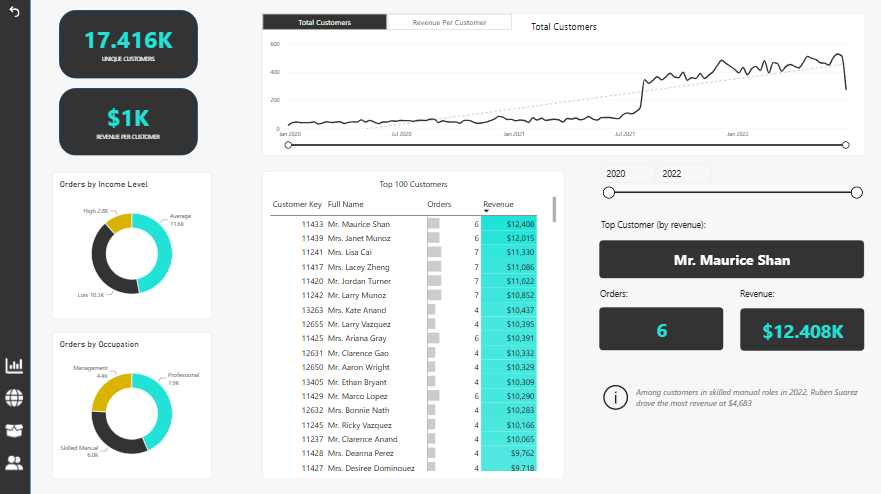

Layout of this report page (visuals, bound fields, positions):
{"tool":"powerbi","page":{"name":"Customer Detail","canvas":[1920,1080],"ordinal":3},"visuals":[{"type":"shape","box":[0,0,70,1080],"z":0},{"type":"group","id":"g1","title":"Group 1","box":[1297.5,482.5,573.4,128.3],"z":0,"group":"g6"},{"type":"cardVisual","fields":{"Data":["Min(Customer Lookup.Full Name)"]},"box":[1297.5,527.7,573.4,83.1],"z":0,"group":"g1"},{"type":"cardVisual","fields":{"Data":["Measure Table.Total Orders"]},"box":[1297.6,672.6,269.8,94.1],"z":0,"group":"g3"},{"type":"cardVisual","fields":{"Data":["Measure Table.Total Revenue"]},"box":[1602.7,673.6,269.8,93.6],"z":0,"group":"g5"},{"type":"actionButton","box":[0,766.8,69.1,64.8],"z":0,"group":"g7"},{"type":"shape","box":[132.5,29.1,300,147.9],"z":500,"group":"g2"},{"type":"shape","box":[132.5,198.8,300,145.8],"z":500,"group":"g4"},{"type":"cardVisual","fields":{"Data":["Measure Table.Total Customers"]},"box":[102.5,12.5,359,177.5],"z":1000,"group":"g2"},{"type":"group","id":"g2","title":"Group 1","box":[102.5,12.5,360,177.5],"z":1000},{"type":"cardVisual","fields":{"Data":["Measure Table.Average Revenue Per Customer"]},"box":[102.5,182.5,359,175],"z":1000,"group":"g4"},{"type":"textbox","box":[1301.8,482.5,434.5,42.7],"z":1000,"group":"g1"},{"type":"textbox","box":[1602.9,631.2,197.4,32.8],"z":1000,"group":"g5"},{"type":"group","id":"g3","title":"Group 1","box":[1297.6,632,269.8,134.7],"z":1000,"group":"g6"},{"type":"textbox","box":[1299.9,632,197.4,32.8],"z":1000,"group":"g3"},{"type":"actionButton","box":[0,836.6,69.1,64.8],"z":1000,"group":"g7"},{"type":"lineChart","fields":{"Category":["Calendar Lookup.Date Hierarchy.Start of Year","Calendar Lookup.Date Hierarchy.Start of Month","Calendar Lookup.Date Hierarchy.Start of Week","Calendar Lookup.Date Hierarchy.Date"],"Y":["Measure Table.Total Customers"]},"box":[570,37.5,1302.5,307.5],"z":1500},{"type":"group","id":"g4","title":"Group 1","box":[102.5,182.5,360,175],"z":2000},{"type":"group","id":"g5","title":"Group 1","box":[1602.7,631.2,269.8,136.1],"z":2000,"group":"g6"},{"type":"actionButton","box":[0,906.5,69.1,64.8],"z":2000,"group":"g7"},{"type":"actionButton","box":[0,976.3,69.1,64.8],"z":3000,"group":"g7"},{"type":"donutChart","title":"Orders by Income Level","fields":{"Category":["Customer Lookup.Income Level"],"Y":["Measure Table.Total Orders"]},"box":[117.5,380,345,317.5],"z":4000},{"type":"donutChart","title":"Orders by Occupation","fields":{"Category":["Customer Lookup.Occupation"],"Y":["Measure Table.Total Orders"]},"box":[117.5,725,345,317.5],"z":5000},{"type":"tableEx","title":"Top 100 Customers","fields":{"Values":["Customer Lookup.CustomerKey","Customer Lookup.Full Name","Measure Table.Total Orders","Measure Table.Total Revenue"]},"box":[570,377.5,652.5,665],"z":6000},{"type":"slicer","fields":{"Values":["Calendar Lookup.Year"]},"box":[1295,357.5,575,102.5],"z":7000},{"type":"group","id":"g6","title":"Group 2","box":[1297.5,482.5,575,285],"z":8000},{"type":"actionButton","box":[0,0,70,66.7],"z":9000},{"type":"actionButton","title":"Among customers in skilled manual roles in 2022, Ruben Suarez drove the most revenue at 4683","box":[1298,810,576,114],"z":10000},{"type":"group","id":"g7","title":"Navigation","box":[0,766.8,69.1,274.3],"z":11000},{"type":"slicer","fields":{"Values":["Customer Metric Selection.Customer Metric Selection"]},"box":[550,37.5,577.5,37.5],"z":11501}]}

Visuals, with their boxes on the page's 1920x1080 design canvas (x1, y1, x2, y2). These are canvas units, not pixel positions in the 881x494 screenshot, which may show the page scaled, cropped or inside an application window:
shape: select_region(0, 0, 70, 1080)
"Group 1" group: select_region(1298, 482, 1871, 611)
cardVisual - Min(Customer Lookup.Full Name): select_region(1298, 528, 1871, 611)
cardVisual - Measure Table.Total Orders: select_region(1298, 673, 1567, 767)
cardVisual - Measure Table.Total Revenue: select_region(1603, 674, 1872, 767)
actionButton: select_region(0, 767, 69, 832)
shape: select_region(132, 29, 432, 177)
shape: select_region(132, 199, 432, 345)
cardVisual - Measure Table.Total Customers: select_region(102, 12, 462, 190)
"Group 1" group: select_region(102, 12, 462, 190)
cardVisual - Measure Table.Average Revenue Per Customer: select_region(102, 182, 462, 358)
textbox: select_region(1302, 482, 1736, 525)
textbox: select_region(1603, 631, 1800, 664)
"Group 1" group: select_region(1298, 632, 1567, 767)
textbox: select_region(1300, 632, 1497, 665)
actionButton: select_region(0, 837, 69, 901)
lineChart - Calendar Lookup.Date Hierarchy.Start of Year x Calendar Lookup.Date Hierarchy.Start of Month: select_region(570, 38, 1872, 345)
"Group 1" group: select_region(102, 182, 462, 358)
"Group 1" group: select_region(1603, 631, 1872, 767)
actionButton: select_region(0, 906, 69, 971)
actionButton: select_region(0, 976, 69, 1041)
"Orders by Income Level" donutChart: select_region(118, 380, 462, 698)
"Orders by Occupation" donutChart: select_region(118, 725, 462, 1042)
"Top 100 Customers" tableEx: select_region(570, 378, 1222, 1042)
slicer - Calendar Lookup.Year: select_region(1295, 358, 1870, 460)
"Group 2" group: select_region(1298, 482, 1872, 768)
actionButton: select_region(0, 0, 70, 67)
"Among customers in skilled manual roles in 2022, Ruben Suarez drove the most revenue at 4683" actionButton: select_region(1298, 810, 1874, 924)
"Navigation" group: select_region(0, 767, 69, 1041)
slicer - Customer Metric Selection.Customer Metric Selection: select_region(550, 38, 1128, 75)
